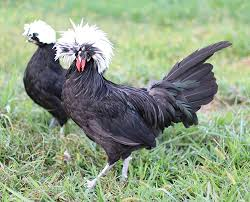Gà/Chicken: (52, 20, 231, 180)
